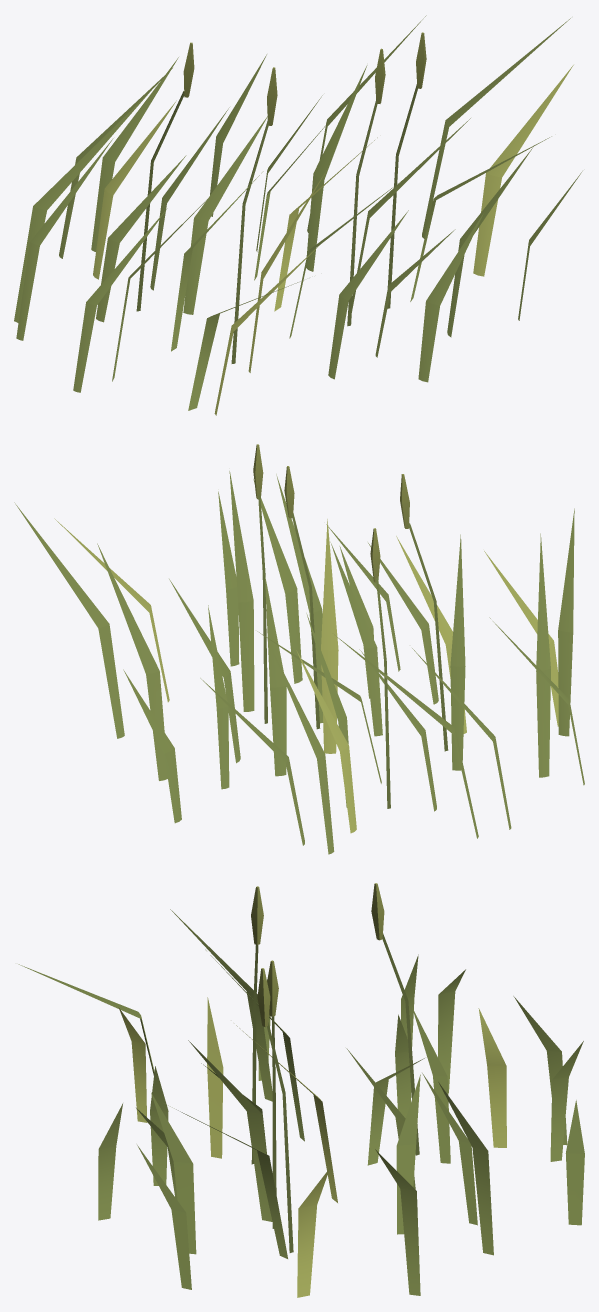
Rendered from foliage_meadow_tall_a.glb.
3 renders of one model, top to bottom at view 1: azimuth 30°, elevation 25°; view 2: azimuth 150°, elevation 25°; view 3: azimuth 270°, elevation 25°, orthographic. The views are drawn at different scales.
Parts seen in each view (by area): view 1: foliage_meadow_tall_a_LOD0; view 2: foliage_meadow_tall_a_LOD0; view 3: foliage_meadow_tall_a_LOD0.
Boxes of the visible parts, x1,y1,x2,y2 form: foliage_meadow_tall_a_LOD0: [14, 15, 582, 415]; foliage_meadow_tall_a_LOD0: [14, 444, 584, 854]; foliage_meadow_tall_a_LOD0: [18, 883, 584, 1297].
Size of what is drawn, in the model's own units: 1.13 by 0.557 by 0.9645.
